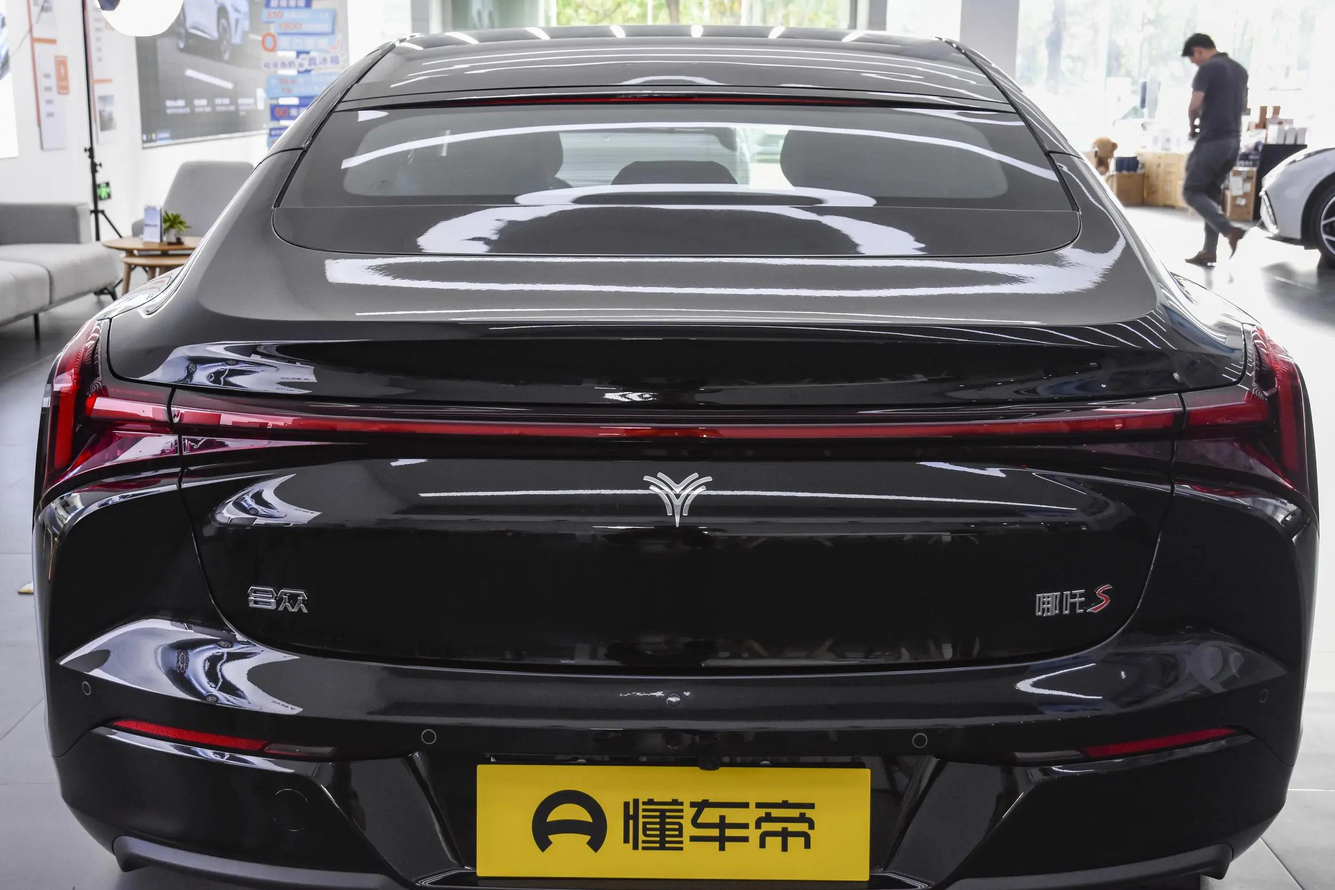NETA: (639, 471, 714, 528)
